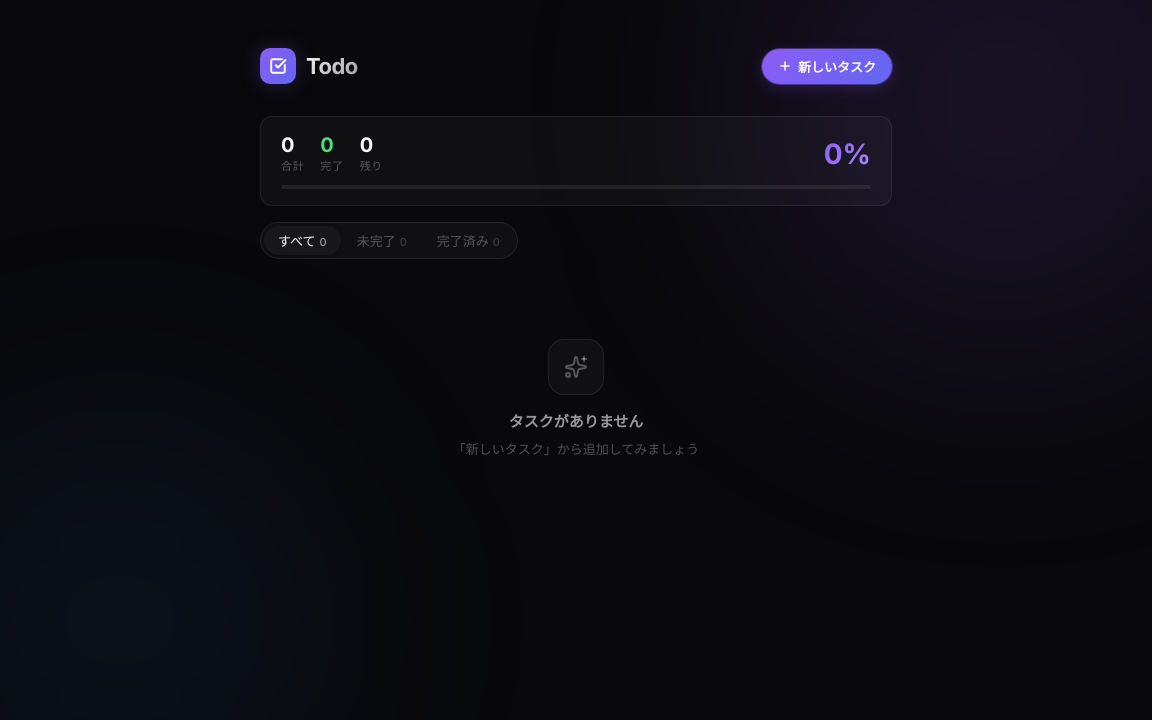
App - タスク追加 › タスクを追加するとフォームが閉じる
Click the button "新しいタスク" at [827, 66], box x1=762 y1=48 x2=892 y2=84
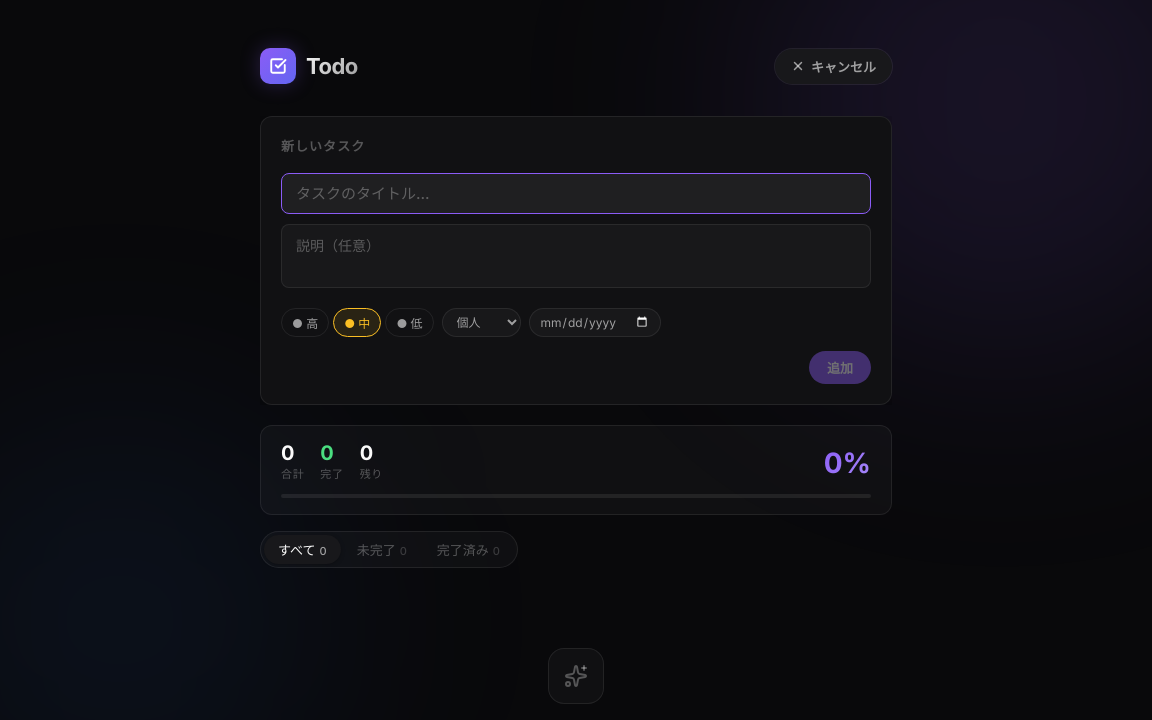
Type "タスクA" into the field with placeholder "タスクのタイトル..." at [576, 193], box x1=281 y1=172 x2=871 y2=214
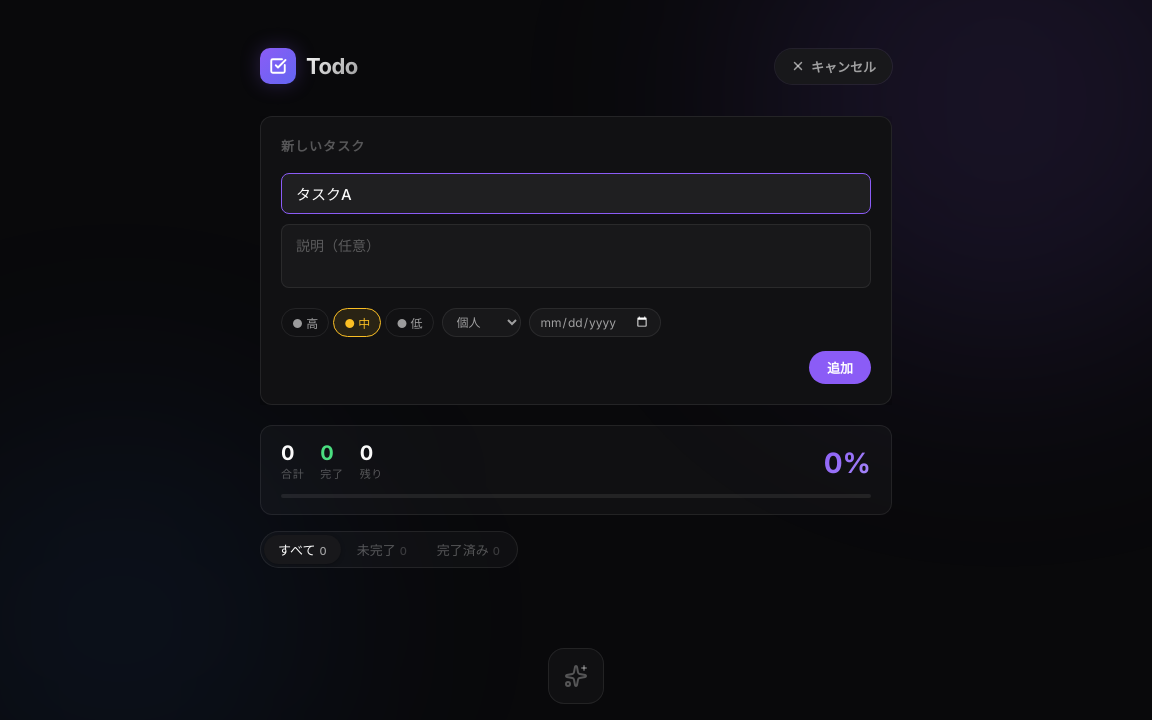
Click the button "追加" at [840, 367], box x1=809 y1=350 x2=871 y2=384
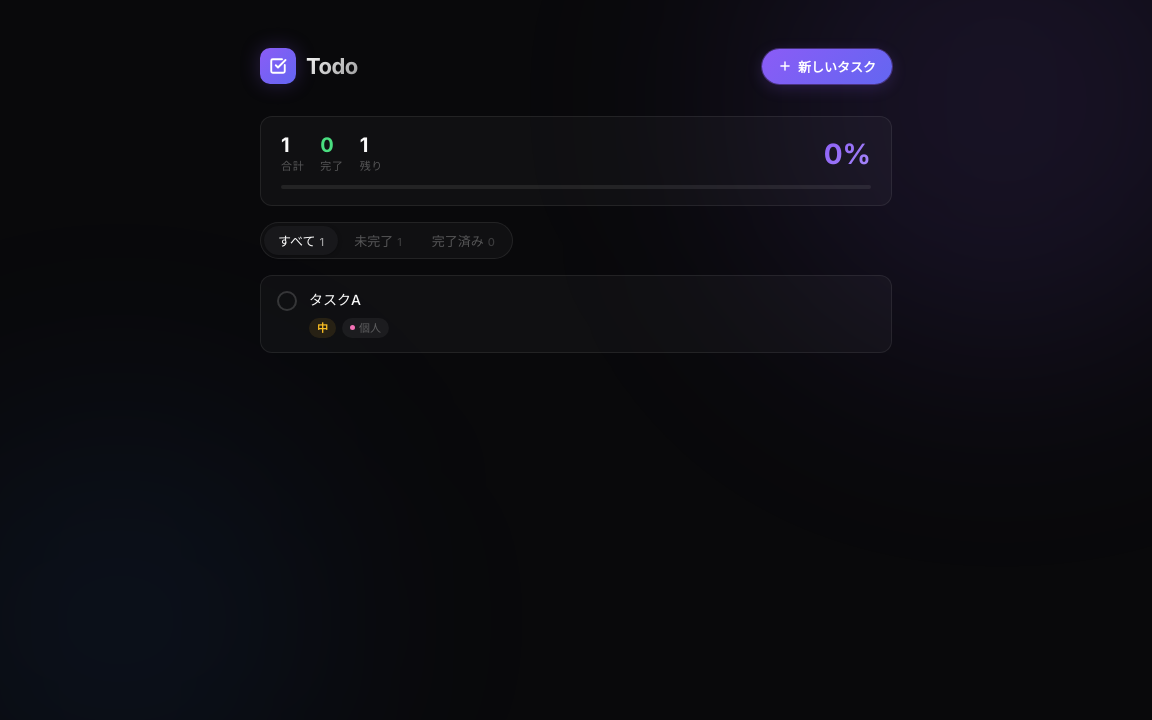
Check: the field with placeholder "タスクのタイトル..." is gone
